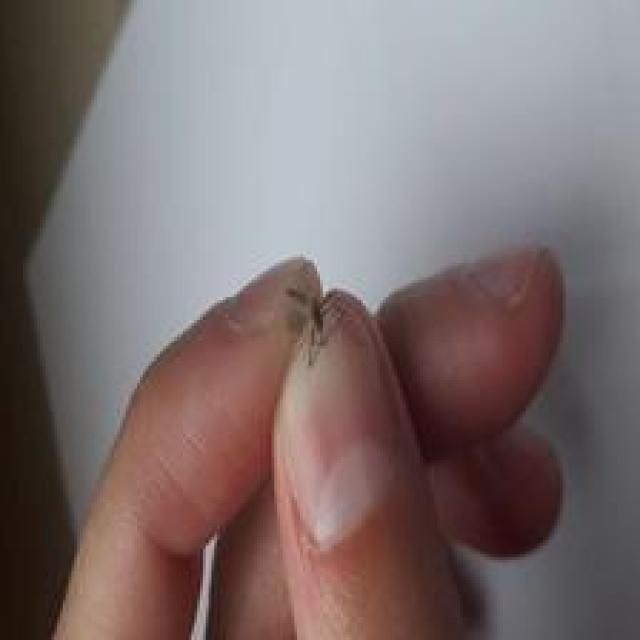Culex: (284, 284, 330, 367)
